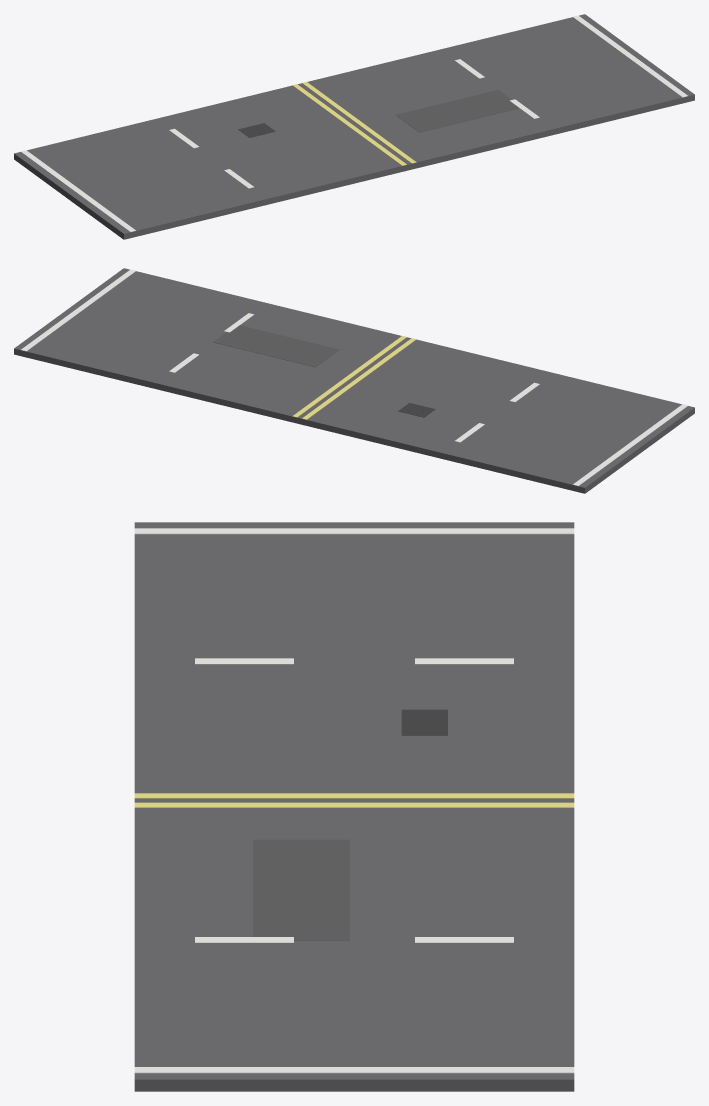
File: StreetRoad_FourLane.fbx
The picture shows the model from 3 angles, top to bottom: view 1: azimuth 30°, elevation 25°; view 2: azimuth 150°, elevation 25°; view 3: azimuth 270°, elevation 25°; orthographic projection. The views are drawn at different scales.
Visible parts, largest first — view 1: LOD0; view 2: LOD0; view 3: LOD0.
Part boxes in pixels (box(x1,y1,x2,y2)): LOD0: box(14, 14, 694, 239); LOD0: box(14, 268, 694, 493); LOD0: box(134, 522, 574, 1091).
Size of what is drawn, in the model's own units: 1200 by 12.6 by 400.
